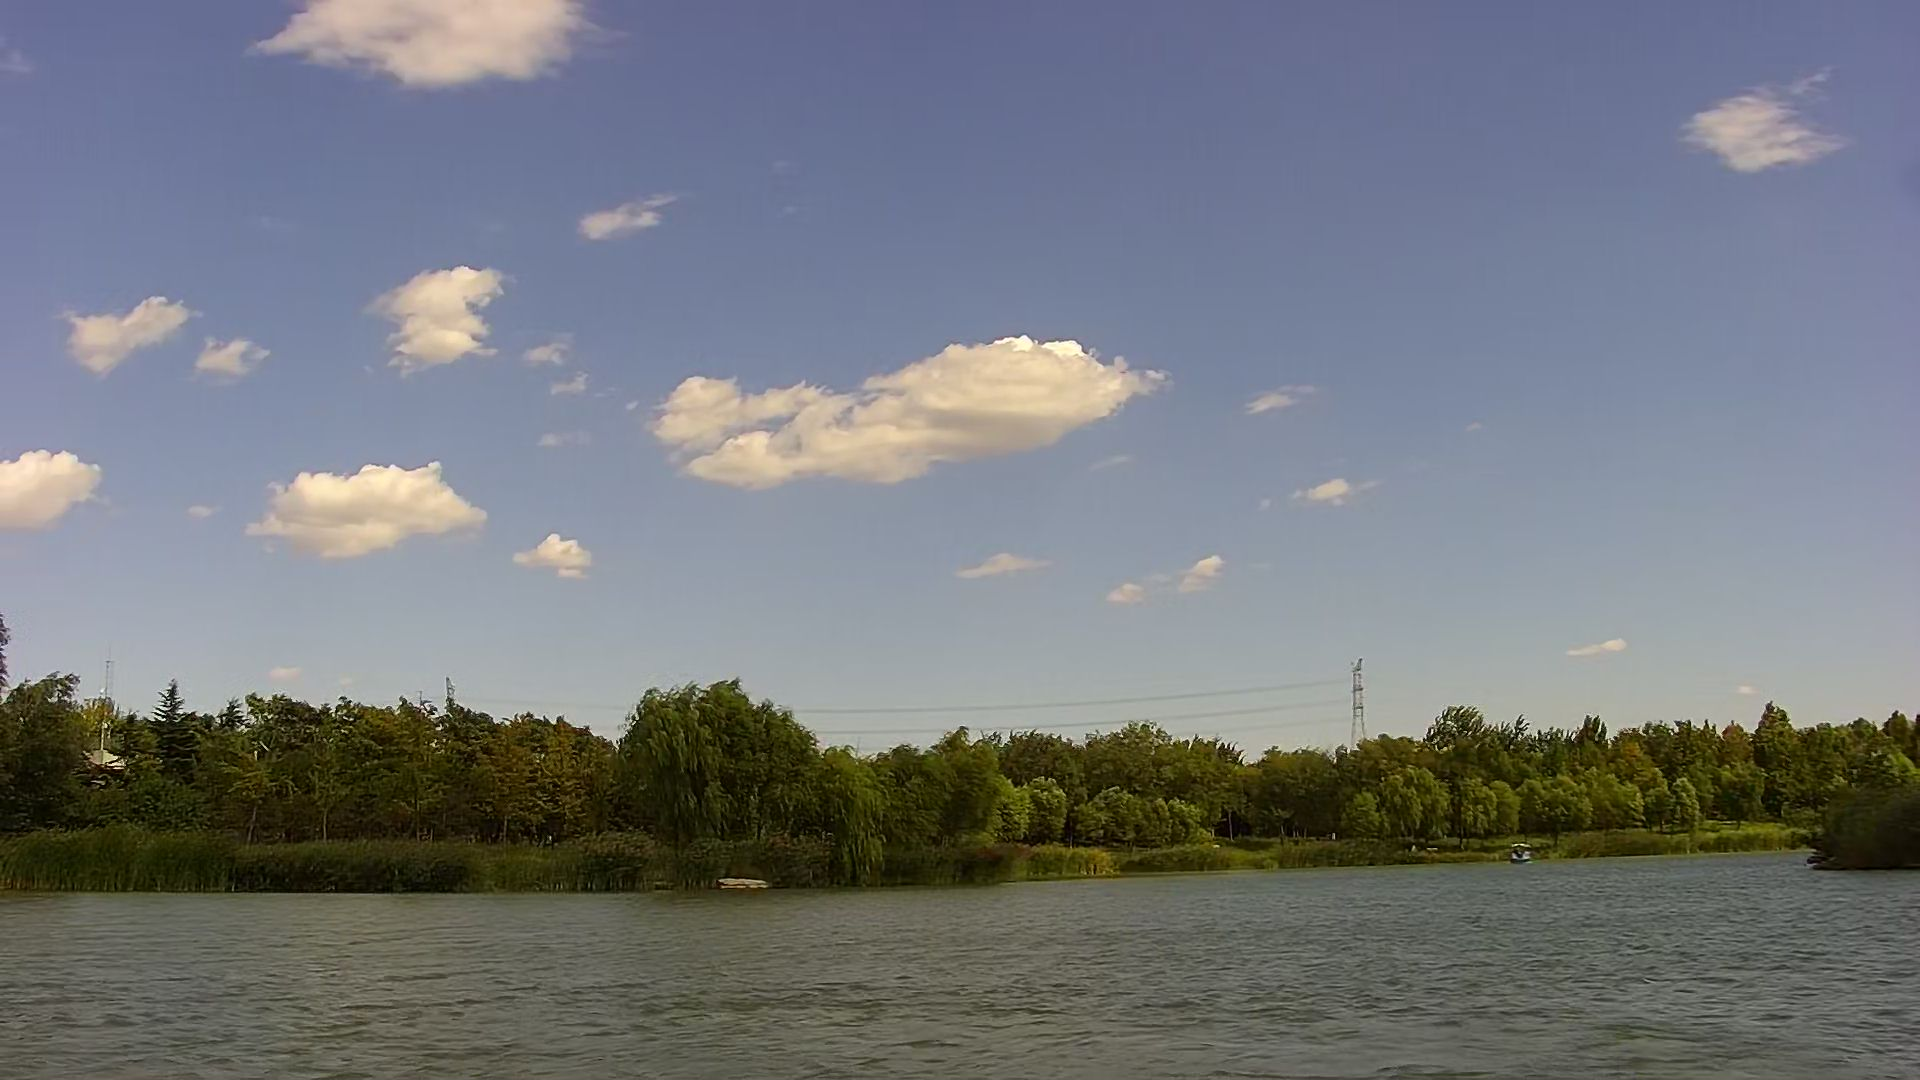boat: (1509, 841, 1527, 862)
rock: (717, 872, 767, 891)
